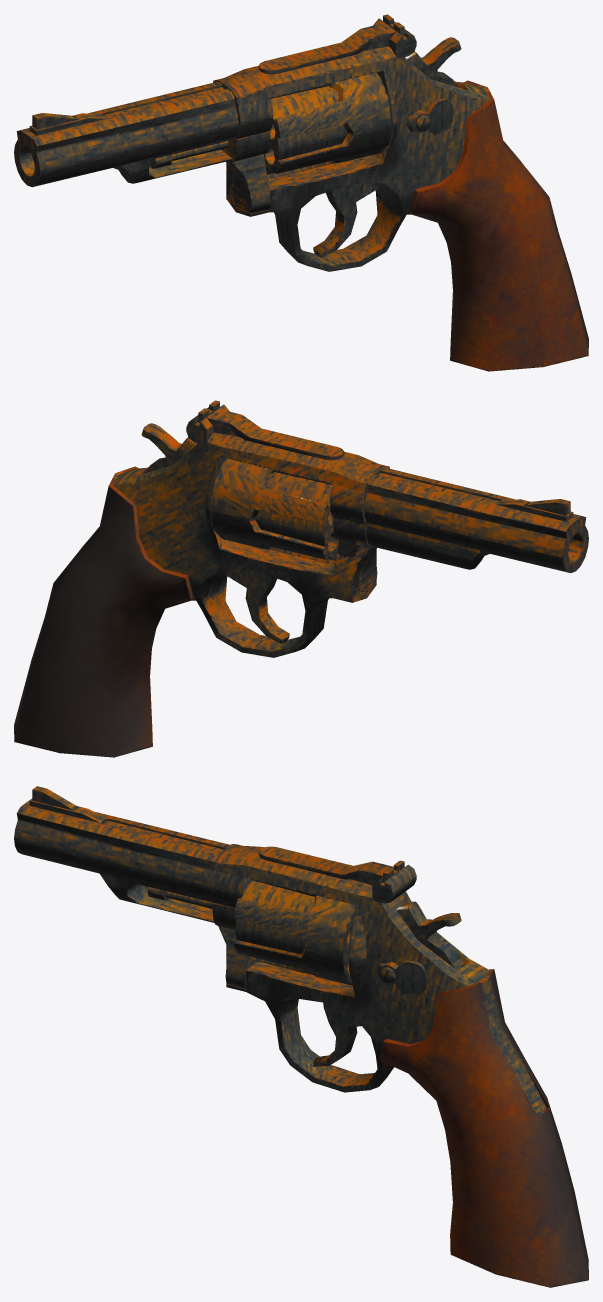
The model's file is model19_orange.obj.
3 renders of one model, top to bottom at view 1: azimuth 30°, elevation 25°; view 2: azimuth 150°, elevation 25°; view 3: azimuth 330°, elevation 25°, orthographic.
Parts seen in each view (by area): view 1: revolver_temp; view 2: revolver_temp; view 3: revolver_temp.
Boxes of the visible parts, bbox=[...] form: revolver_temp: bbox=[14, 14, 588, 371]; revolver_temp: bbox=[14, 400, 588, 757]; revolver_temp: bbox=[14, 786, 588, 1287].
Size of the model in its own units: 10.51 by 6.53 by 1.59.
1 material, 1 textured.
